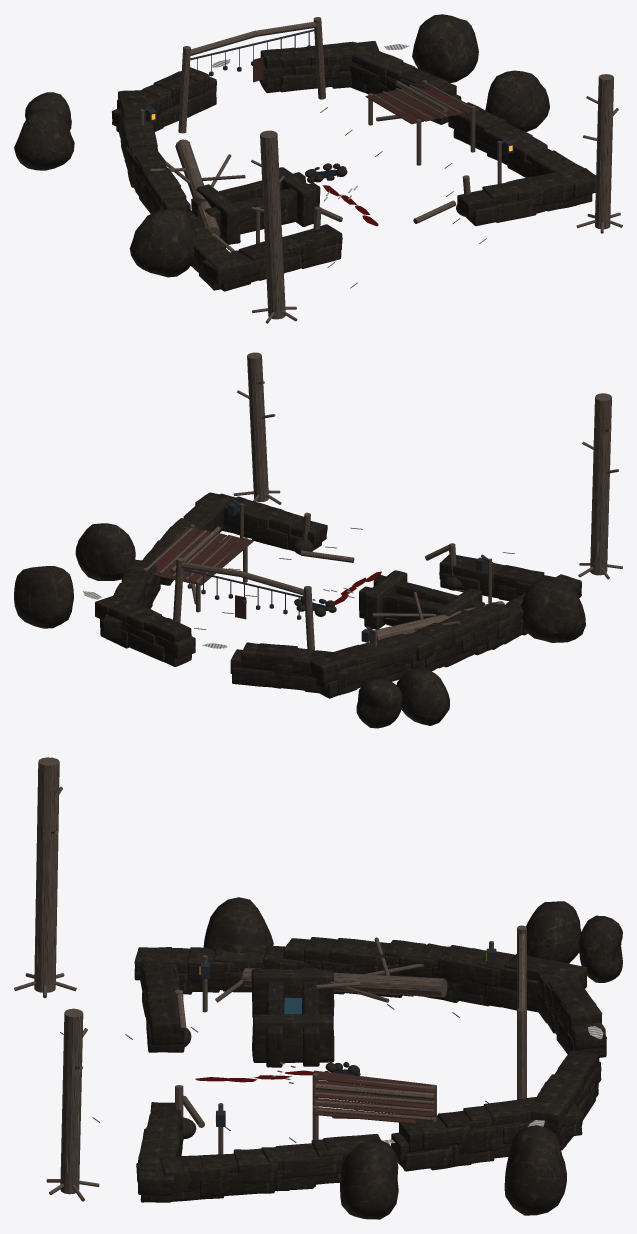
File: widowpine_broken_fold.glb
3 renders of one model, top to bottom at view 1: azimuth 30°, elevation 25°; view 2: azimuth 150°, elevation 25°; view 3: azimuth 270°, elevation 25°, orthographic. The views are drawn at different scales.
Parts seen in each view (by area): view 1: EnvironmentVisuals; view 2: EnvironmentVisuals; view 3: EnvironmentVisuals.
Boxes of the visible parts, x1,y1,x2,y2 form: EnvironmentVisuals: (14,14,622,323); EnvironmentVisuals: (14,352,622,728); EnvironmentVisuals: (14,757,622,1219).
Size of what is drawn, in the model's own units: 29.31 by 11.41 by 27.
12 materials, 4 textured.
